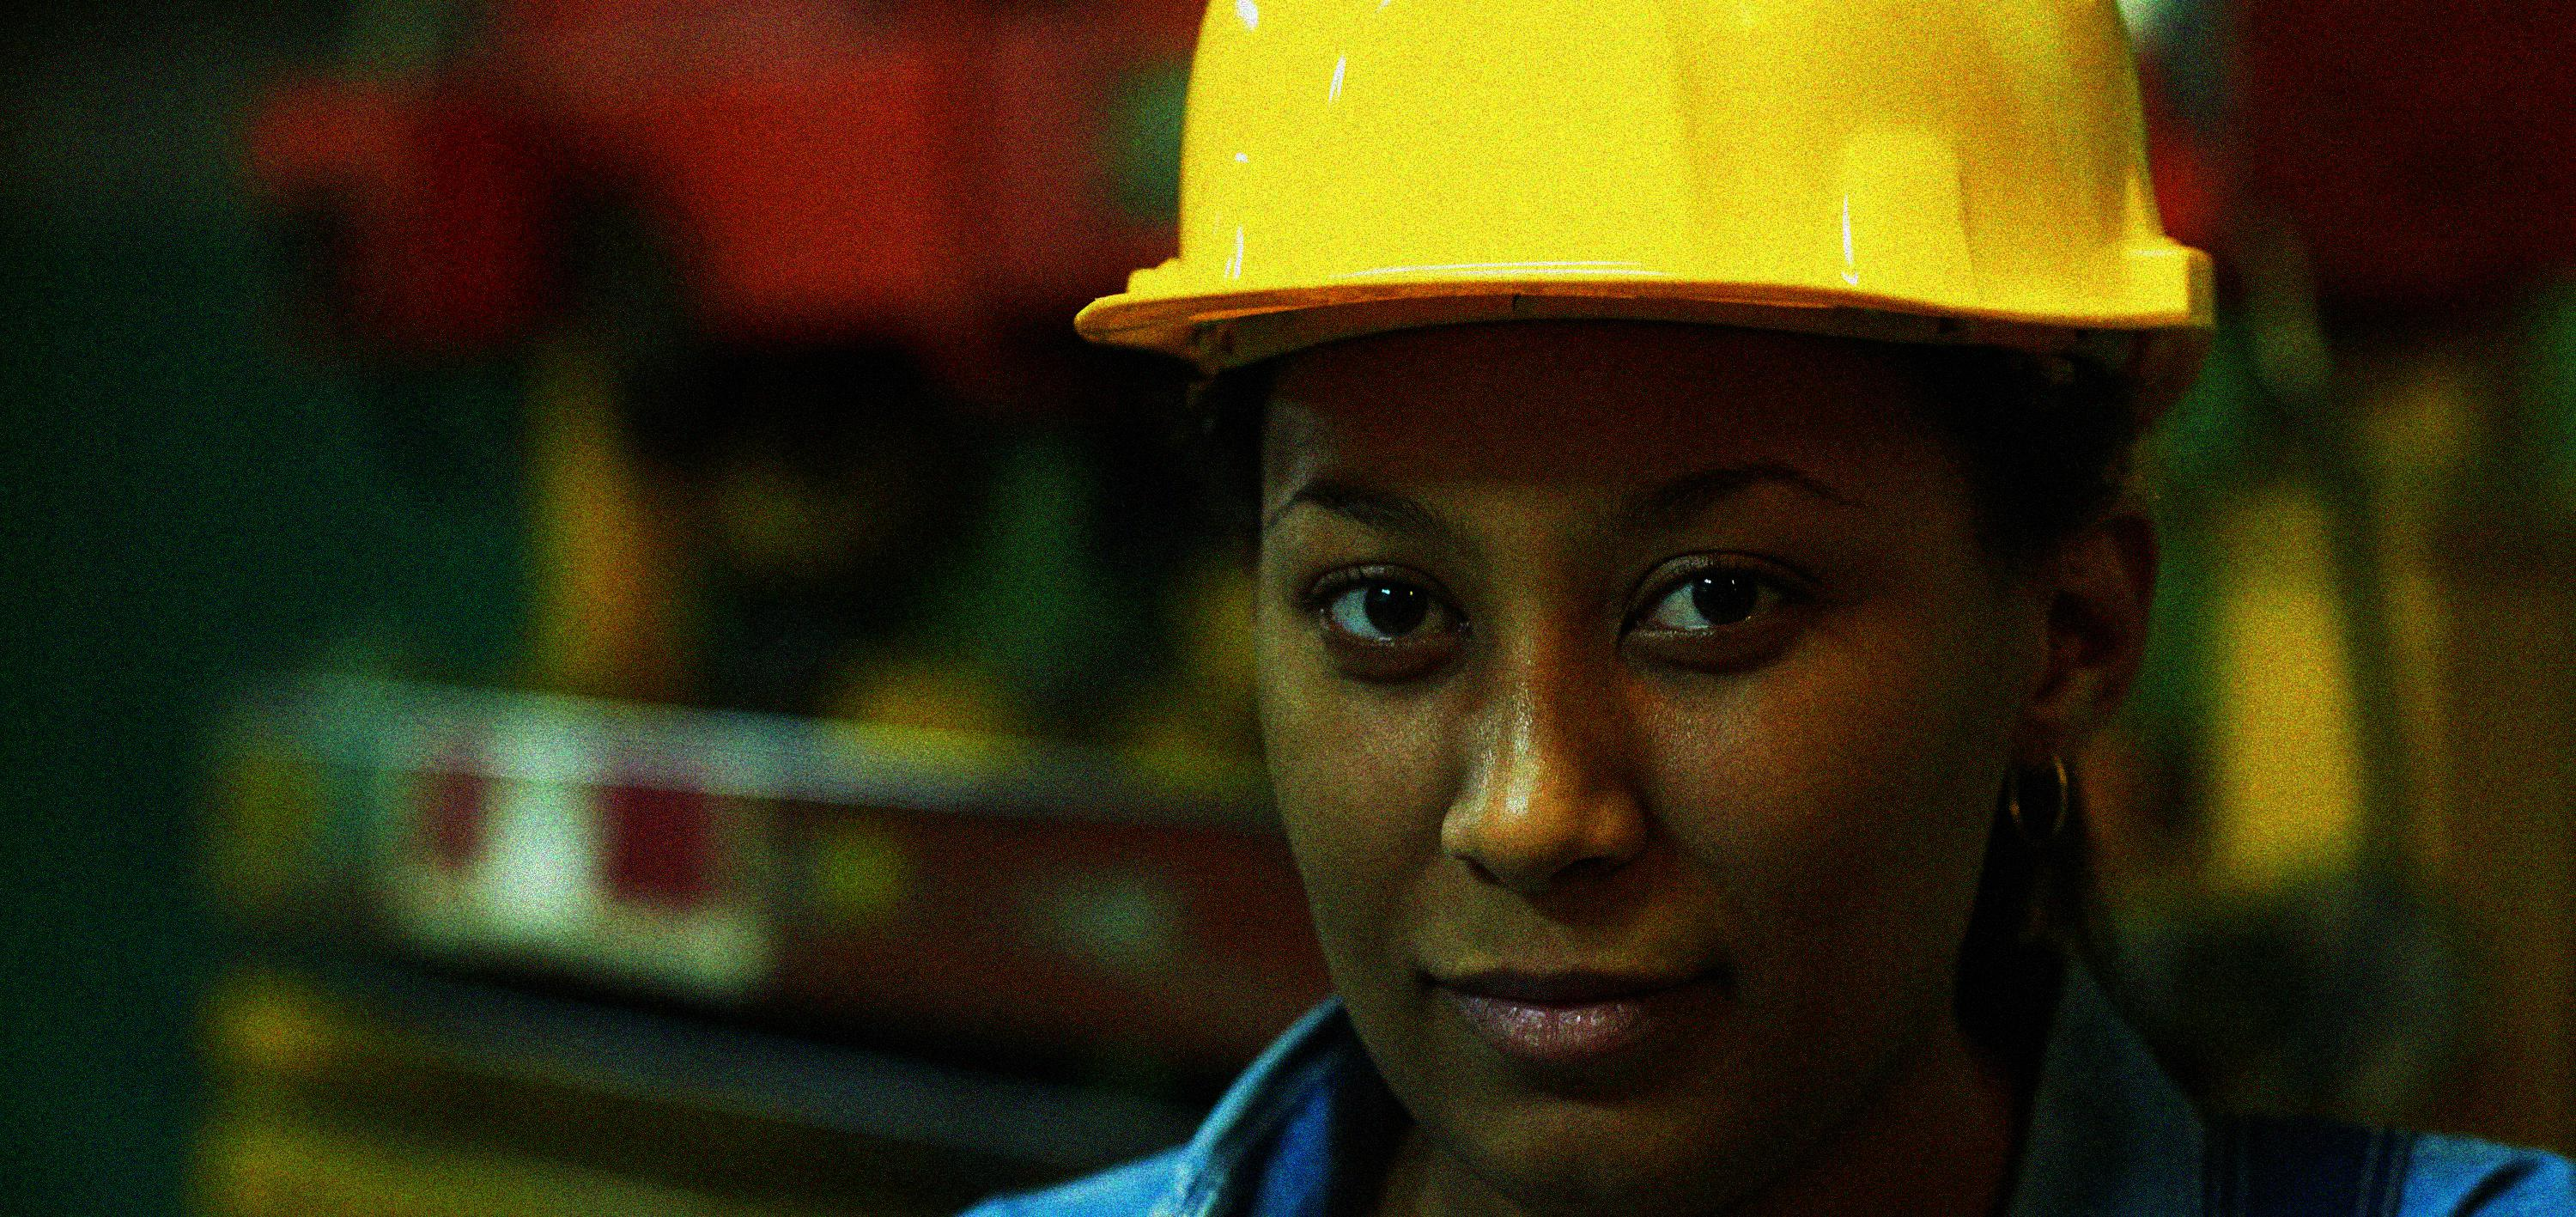helmet: (1078, 2, 2213, 1212)
